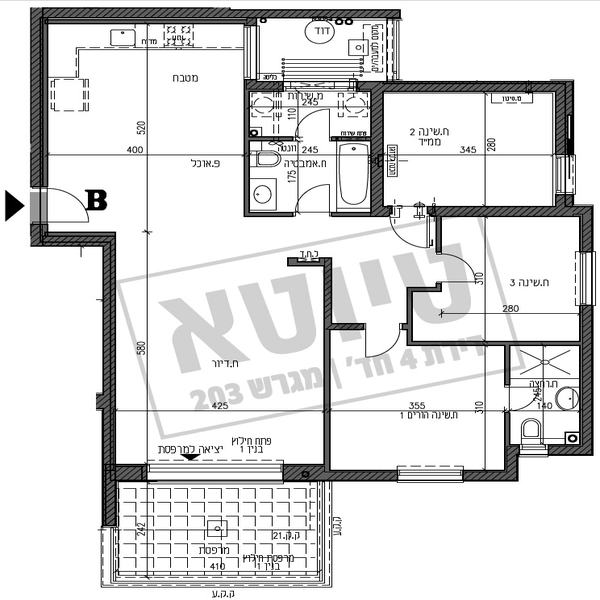door: (34, 183, 95, 229), (427, 252, 500, 290), (385, 207, 436, 255), (363, 314, 405, 368), (293, 176, 337, 215), (297, 104, 338, 142)
room: (101, 243, 332, 489), (23, 1, 249, 248), (316, 335, 520, 485), (367, 75, 577, 218), (430, 193, 600, 350), (503, 334, 599, 465)
wall: (95, 229, 120, 534), (27, 6, 263, 27), (27, 6, 49, 188), (319, 251, 336, 469), (366, 78, 579, 94), (367, 81, 391, 217), (430, 204, 598, 223), (550, 76, 582, 157), (27, 223, 121, 250), (580, 306, 595, 456), (286, 465, 394, 485), (267, 7, 401, 22), (240, 83, 254, 219), (404, 337, 582, 344), (577, 202, 598, 255), (467, 468, 518, 486), (287, 253, 330, 274), (403, 289, 417, 349), (243, 205, 295, 220), (247, 74, 282, 93), (551, 443, 583, 463), (330, 210, 374, 224), (249, 134, 298, 145), (333, 132, 370, 144), (328, 321, 364, 333)
window: (142, 454, 288, 484), (397, 463, 467, 488), (576, 251, 598, 310), (554, 153, 576, 194), (517, 441, 548, 455)
